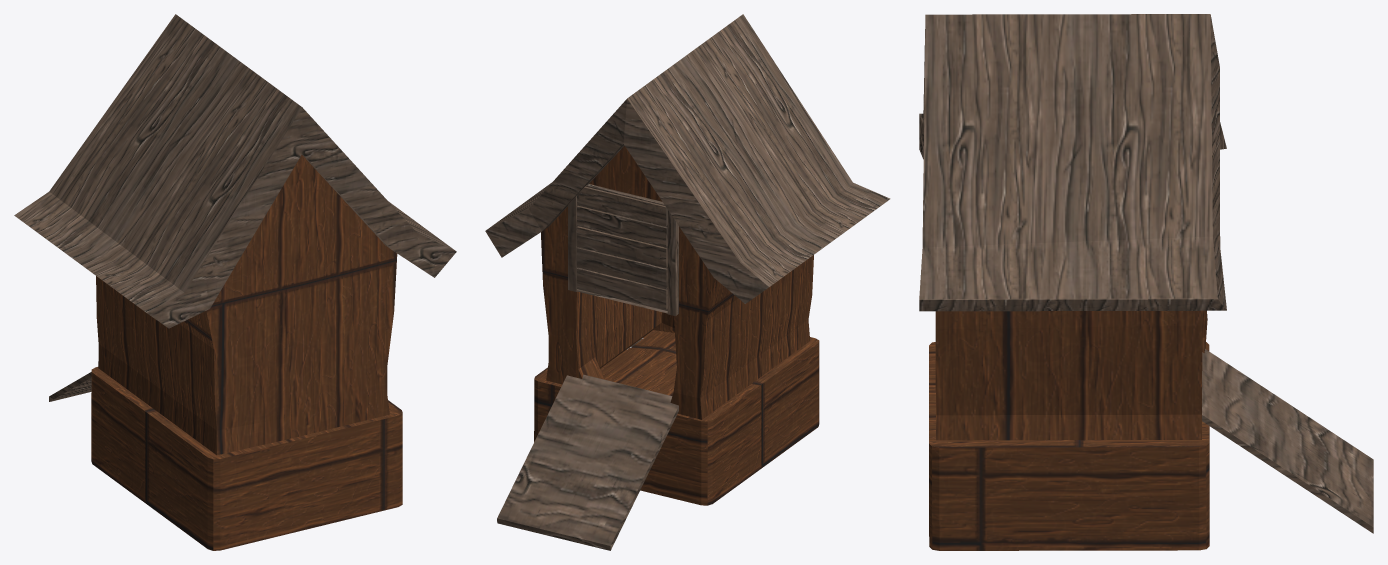
File: ARC0710007.fbx
3 renders of one model, left to right at view 1: azimuth 30°, elevation 25°; view 2: azimuth 150°, elevation 25°; view 3: azimuth 270°, elevation 25°, orthographic. The views are drawn at different scales.
Parts seen in each view (by area): view 1: smARC0710007; view 2: smARC0710007; view 3: smARC0710007.
Boxes of the visible parts, x1,y1,x2,y2 form: smARC0710007: [14, 14, 456, 550]; smARC0710007: [485, 14, 890, 550]; smARC0710007: [919, 14, 1373, 550].
Size of the model in its own units: 158 by 209 by 179.
1 material, 1 textured.
